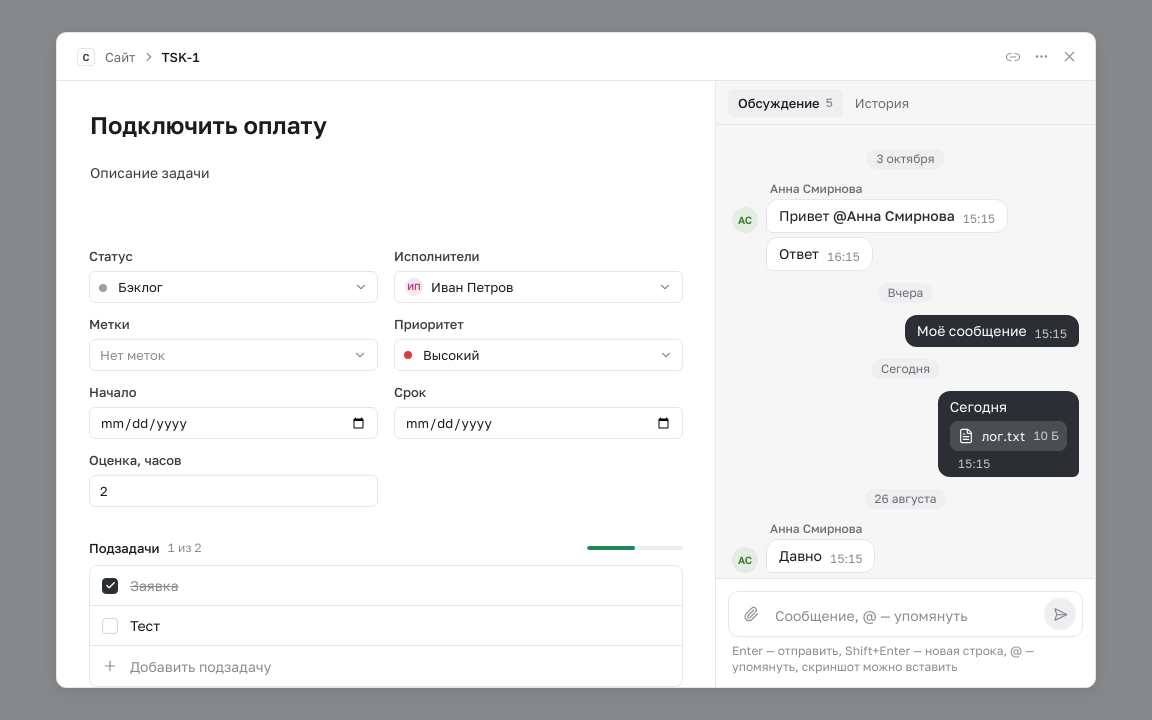
Test: card modal: editing fields › shows the server's message when saving fails
Select "Низкий" in the dropdown labelled "Приоритет" at point(538, 355), box x1=394 y1=339 x2=683 y2=371
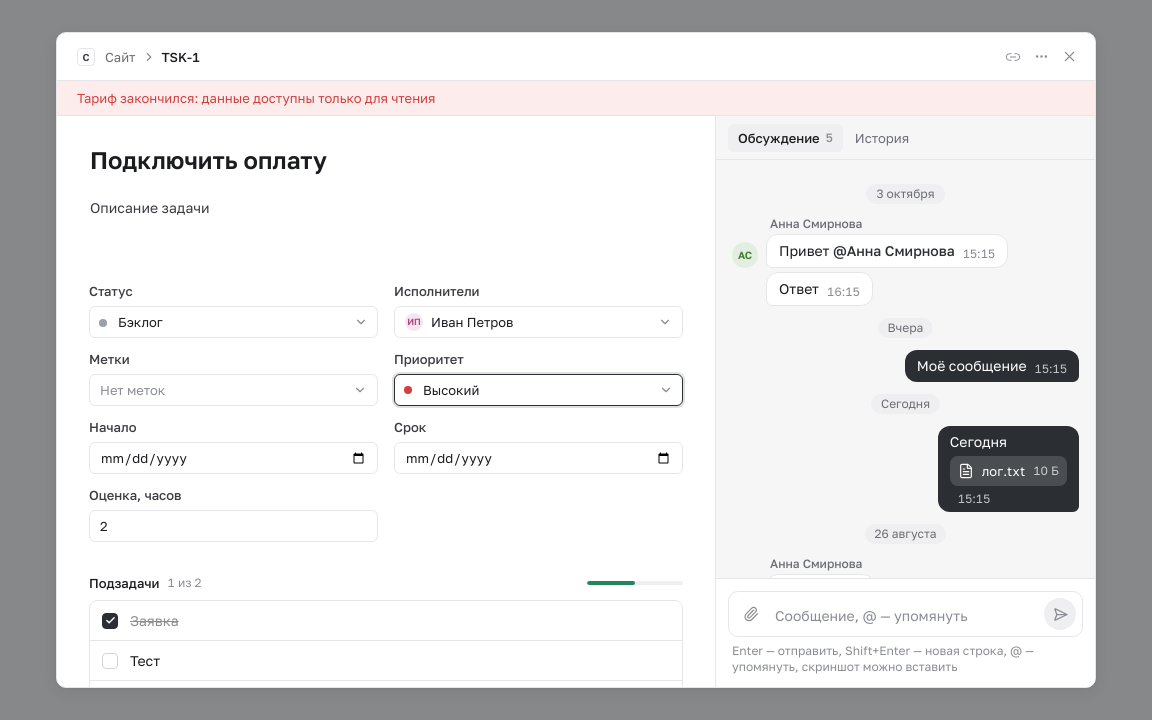
Expected: the text "Тариф закончился: данные доступны только для чтения" is shown, x1=57 y1=81 x2=1095 y2=116
